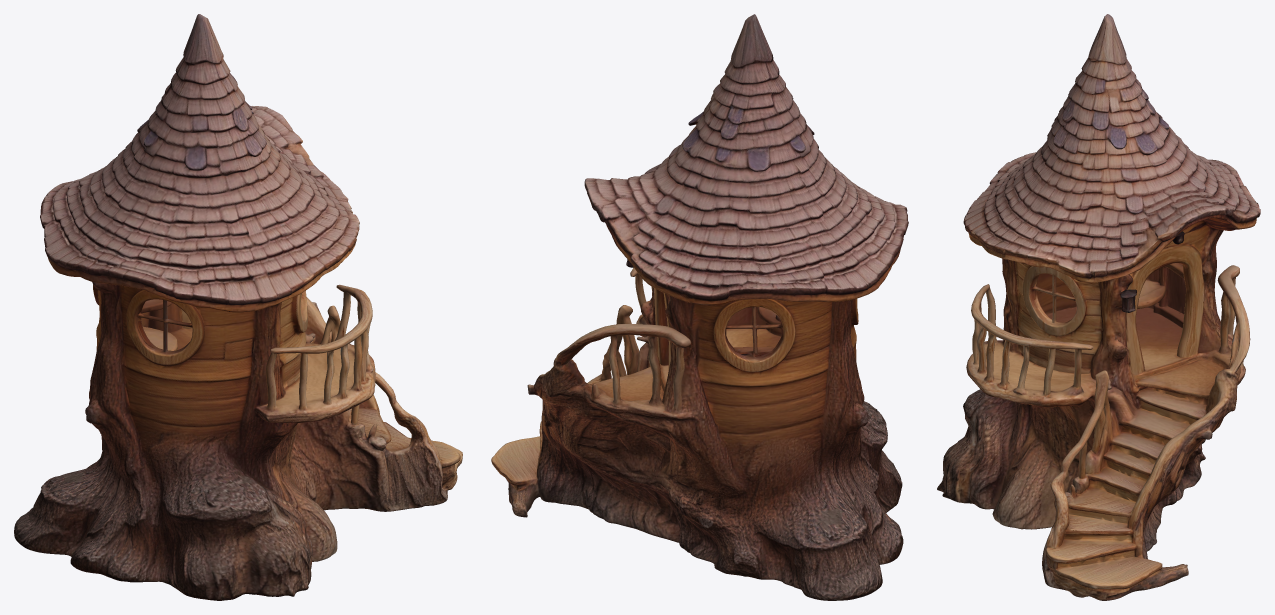
File: small_hut_shelter_house_3d_model_free.glb
3 views of the same model, side by side, from view 1: azimuth 30°, elevation 25°; view 2: azimuth 150°, elevation 25°; view 3: azimuth 270°, elevation 25° (orthographic). The views are drawn at different scales.
Parts seen in each view (by area): view 1: tripo_node_eac7bb76-52ad-478d-b1d6-a2a4a7fb1758_0; view 2: tripo_node_eac7bb76-52ad-478d-b1d6-a2a4a7fb1758_0; view 3: tripo_node_eac7bb76-52ad-478d-b1d6-a2a4a7fb1758_0.
Boxes of the visible parts, box(x1,y1,x2,y2) form: tripo_node_eac7bb76-52ad-478d-b1d6-a2a4a7fb1758_0: box(14, 14, 462, 600); tripo_node_eac7bb76-52ad-478d-b1d6-a2a4a7fb1758_0: box(491, 14, 908, 600); tripo_node_eac7bb76-52ad-478d-b1d6-a2a4a7fb1758_0: box(937, 14, 1260, 600).
Bounding box in the file's own units: 0.8229 × 1 × 0.6165.
Materials: 1 (1 with a texture image).
